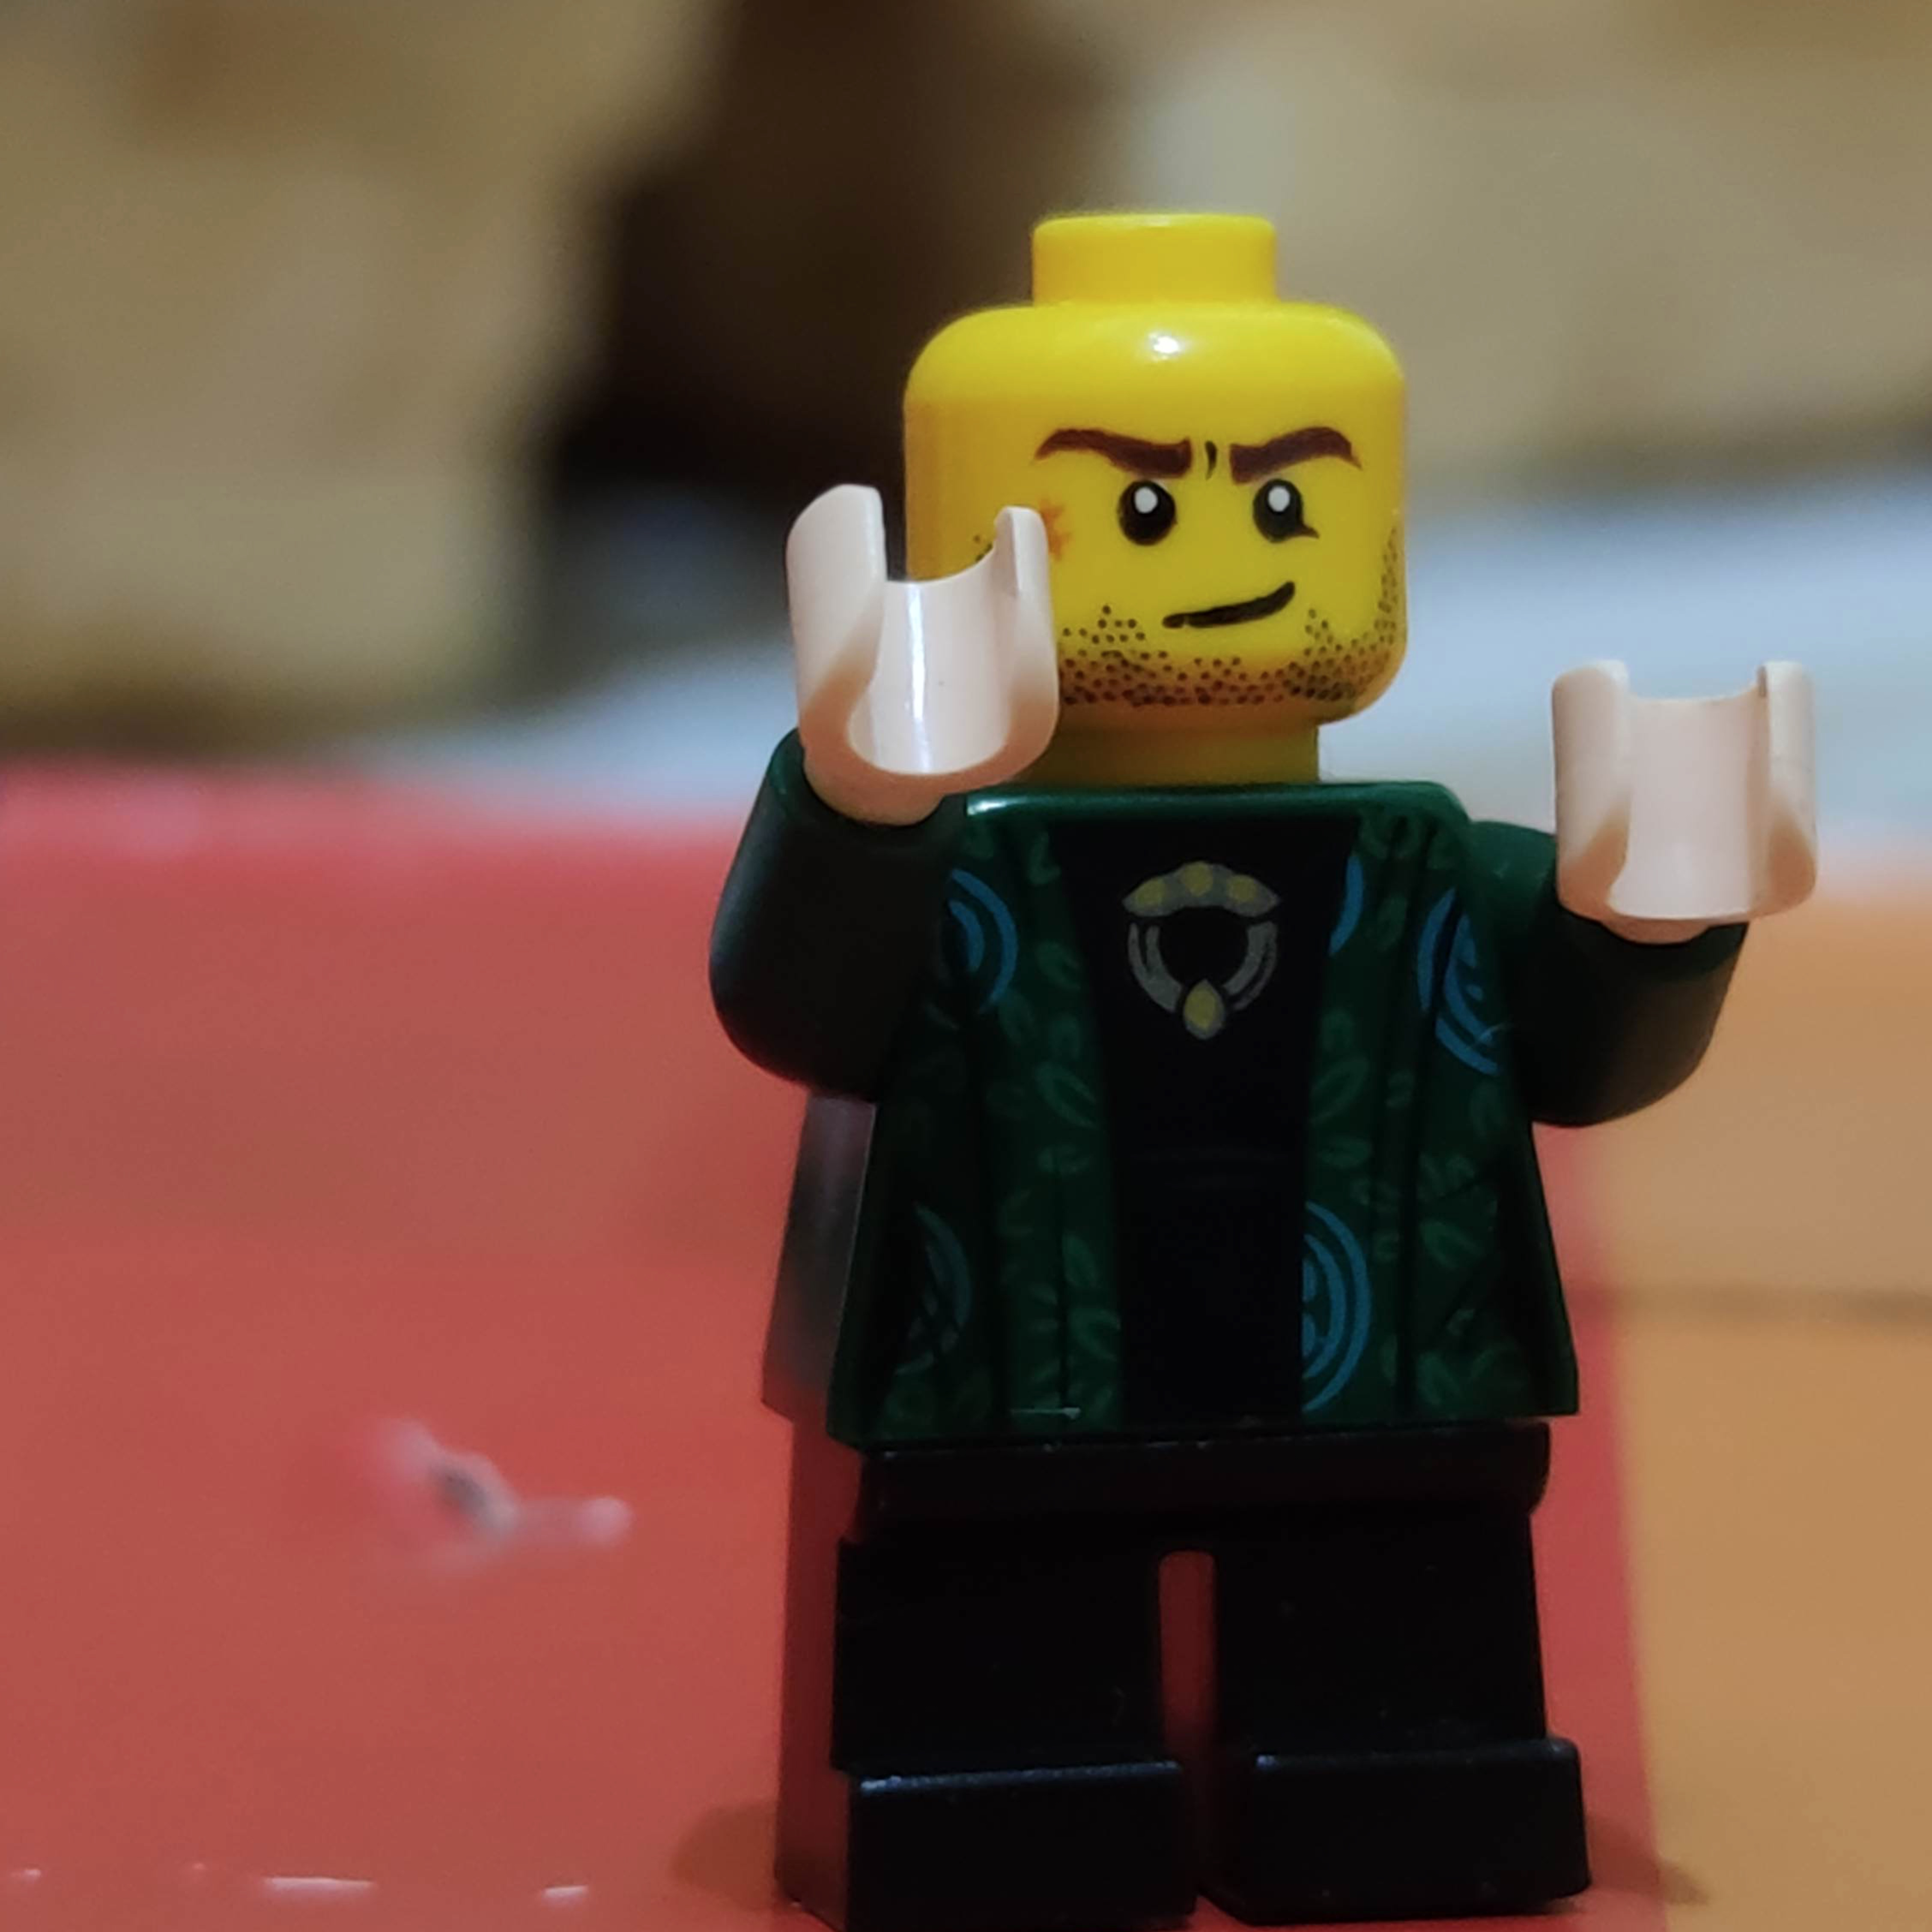lego: (706, 214, 1813, 1932)
